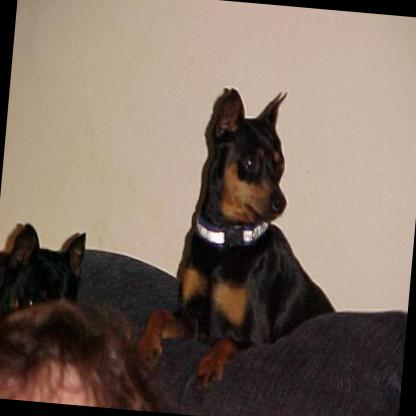miniature_pinscher: (134, 80, 356, 401), (0, 221, 87, 330)
